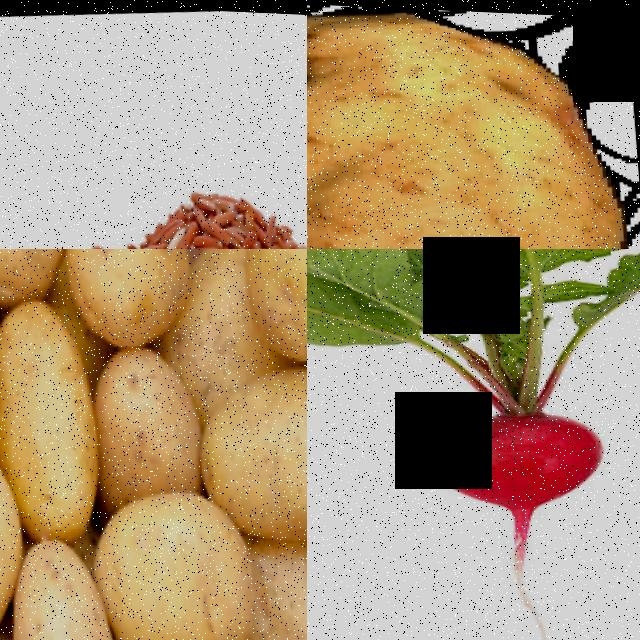potato: (307, 0, 640, 249), (193, 352, 307, 548), (6, 527, 120, 640)
radishes: (395, 272, 628, 528)
red rice: (2, 168, 307, 249)
spinach: (0, 293, 98, 539), (104, 480, 254, 640), (85, 335, 209, 502), (62, 249, 198, 342), (234, 249, 307, 367)
